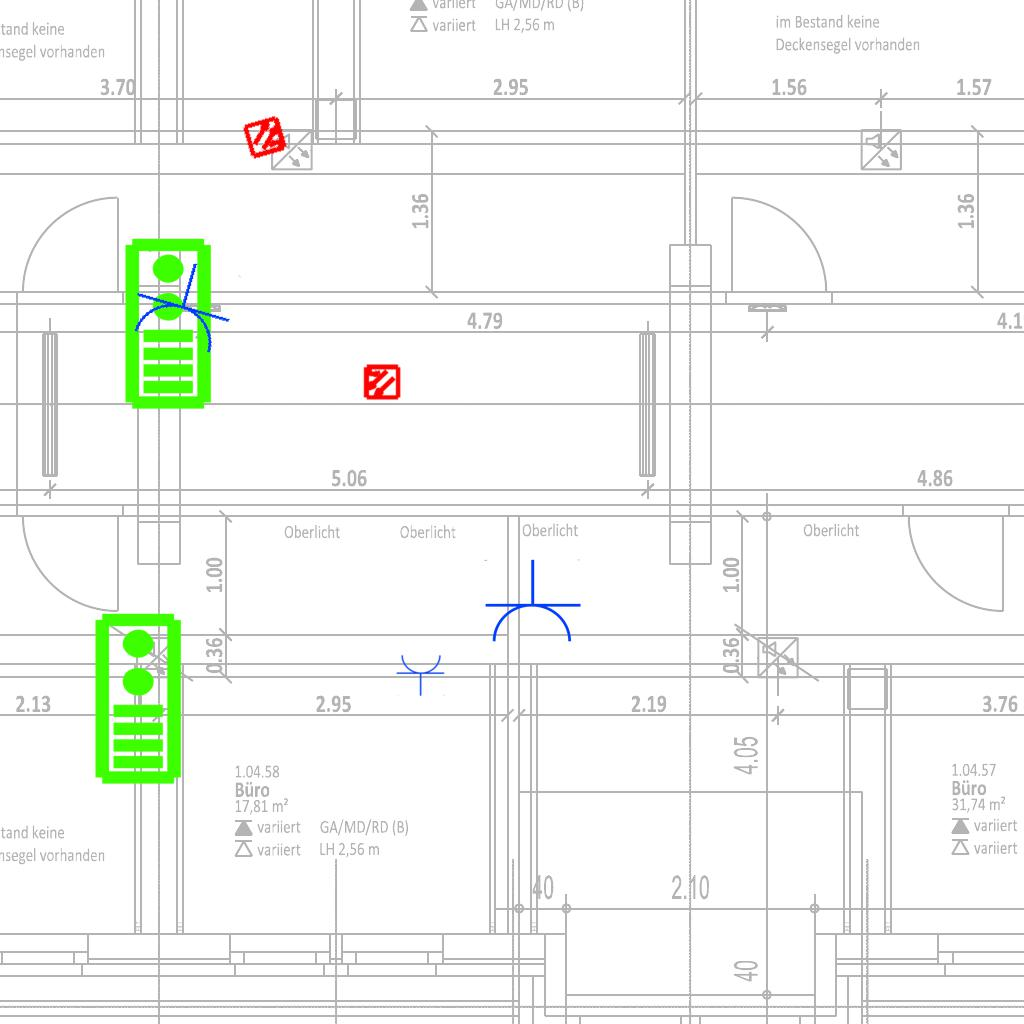Gegensprechanlage_mit_Video: (119, 235, 214, 411), (89, 610, 184, 786)
OT_Multisensormelder_(Kombination_RMO_WMD): (231, 102, 301, 172), (353, 354, 409, 410)
Schukosteckdose_einfach: (122, 248, 244, 361), (482, 559, 582, 646), (396, 653, 446, 696)
